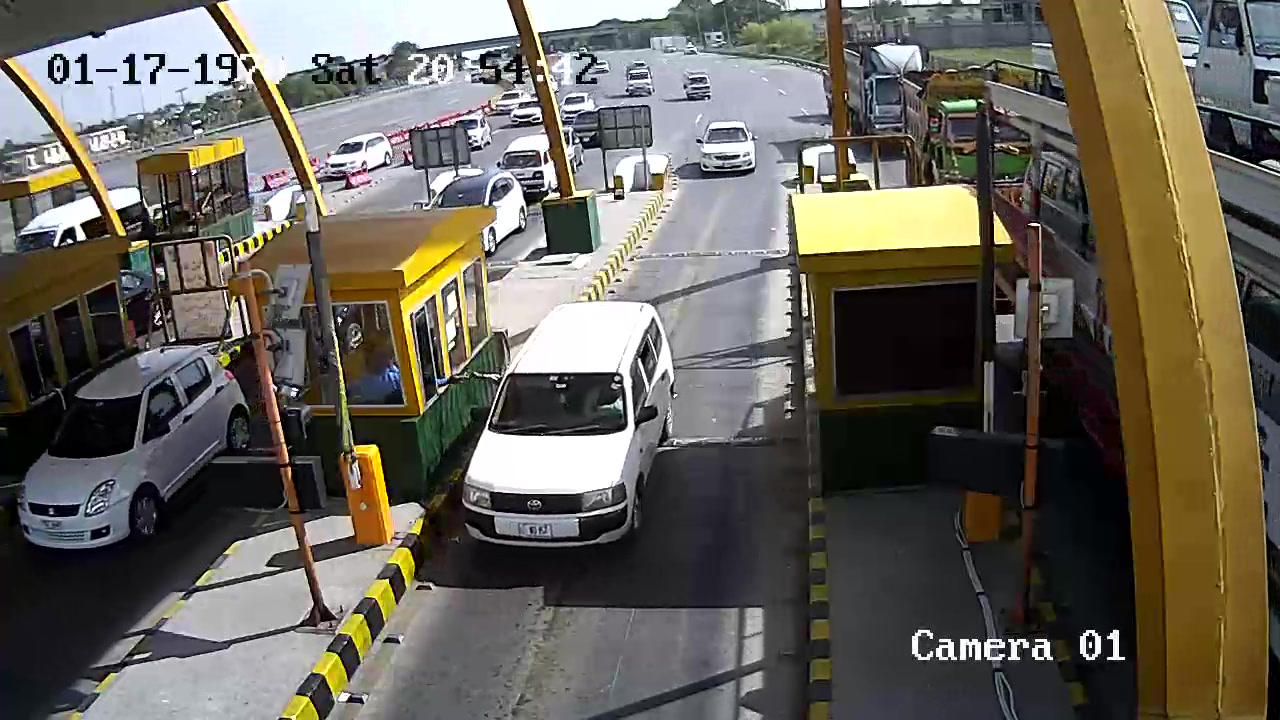F1: (460, 289, 681, 560)
